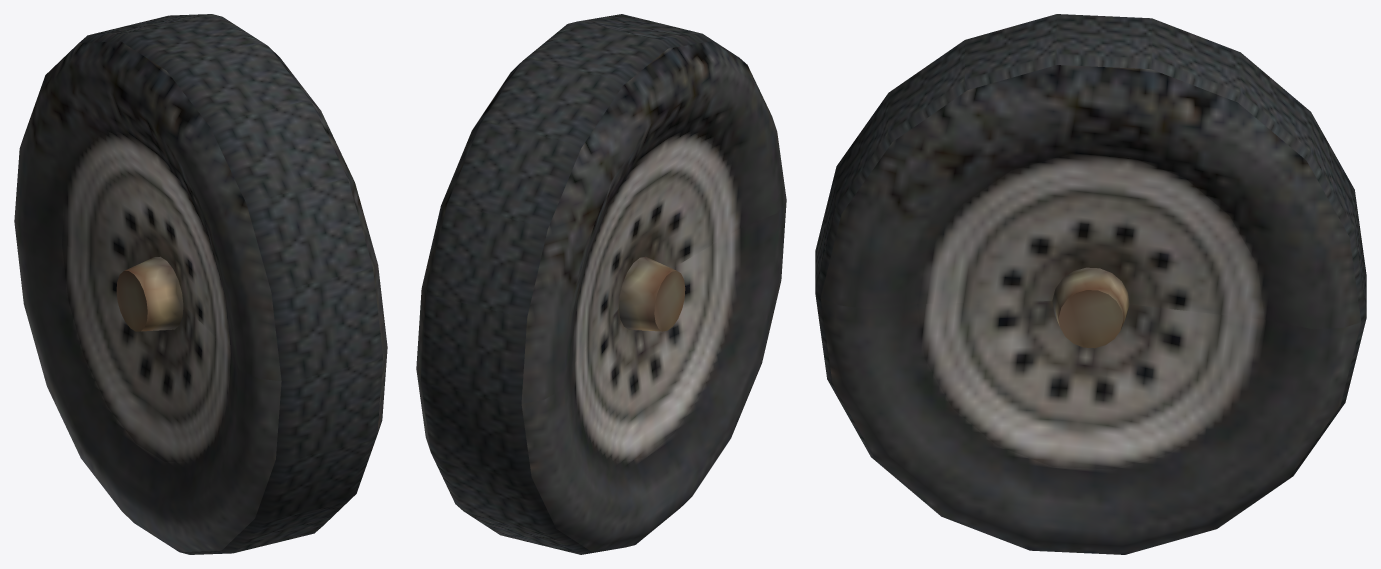
The model's file is pickup_wheel.obj.
The picture shows the model from 3 angles, left to right: view 1: azimuth 30°, elevation 25°; view 2: azimuth 150°, elevation 25°; view 3: azimuth 270°, elevation 25°; orthographic projection. The views are drawn at different scales.
Visible parts, largest first — view 1: Cylinder.001; view 2: Cylinder.001; view 3: Cylinder.001.
Part boxes in pixels (x1,y1,x2,y2): Cylinder.001: [14, 14, 387, 554]; Cylinder.001: [416, 14, 786, 554]; Cylinder.001: [815, 14, 1366, 554].
Bounding box in the file's own units: 0.6056 × 2 × 2.
1 material, 1 textured.
